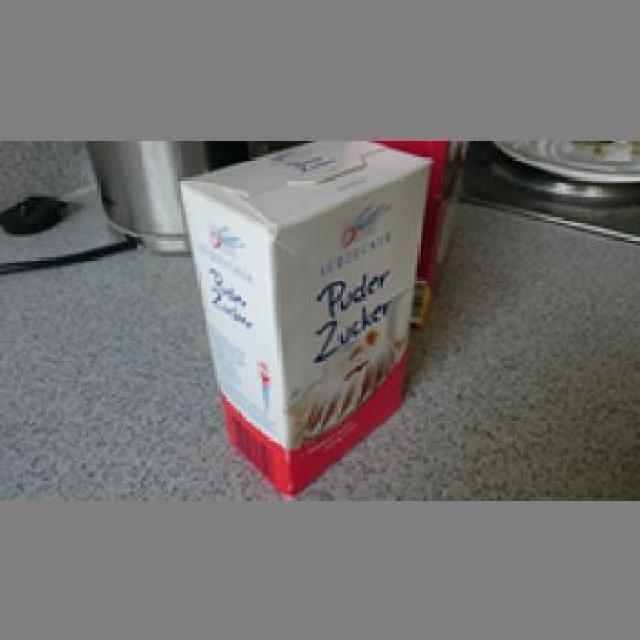Sugar: (168, 140, 428, 494)
